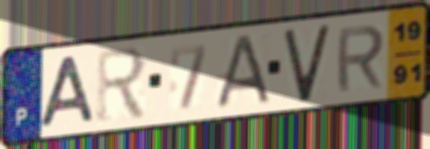7: (167, 42, 208, 112)
A: (210, 32, 275, 111), (37, 53, 98, 131)
R: (95, 44, 149, 124), (334, 22, 387, 95)
V: (281, 21, 333, 105)
